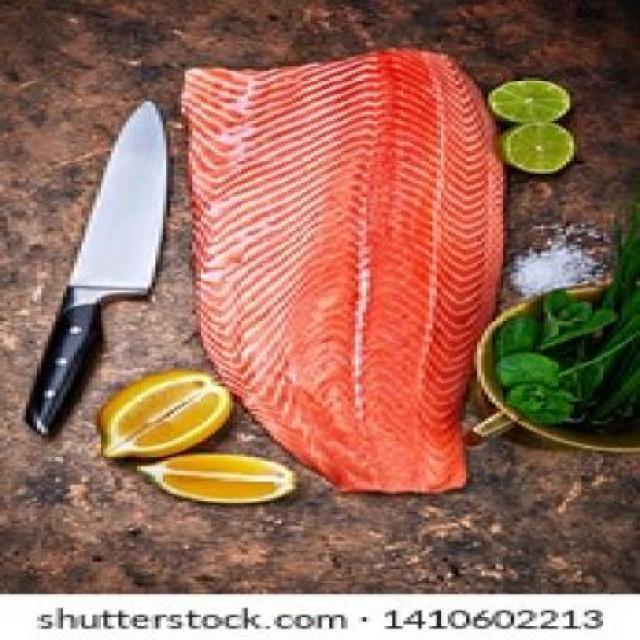salmon: (160, 43, 534, 512)
